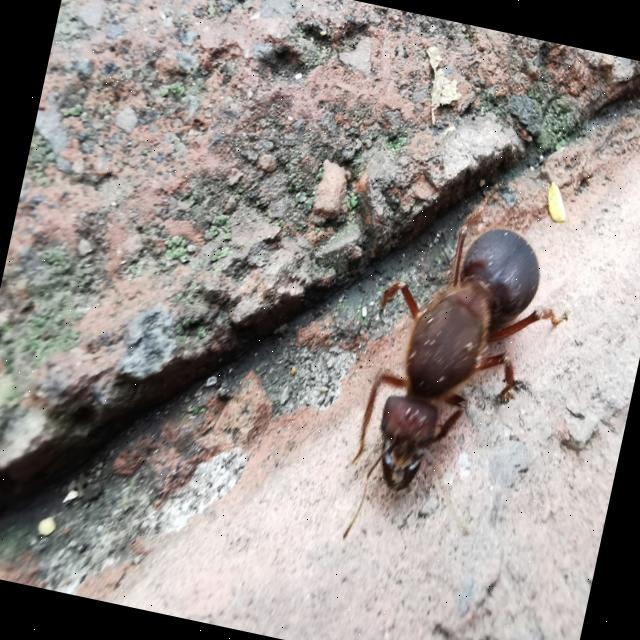Alive-Female-Dealate: (330, 165, 592, 574)
